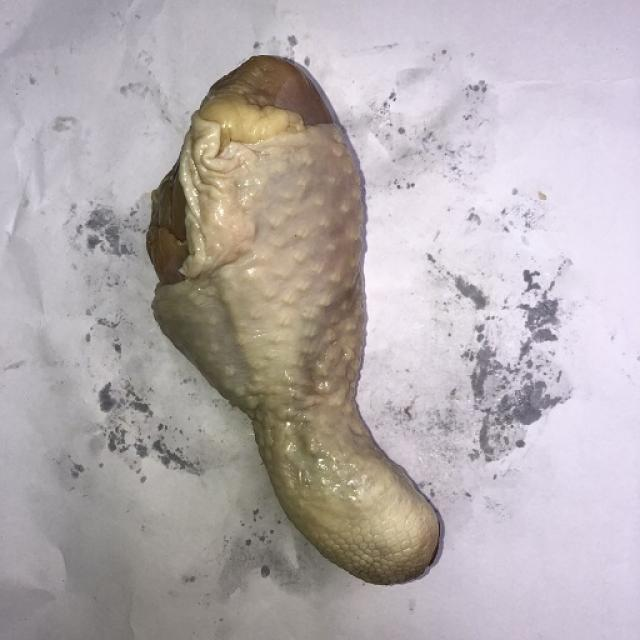chicken: (145, 53, 444, 586)
